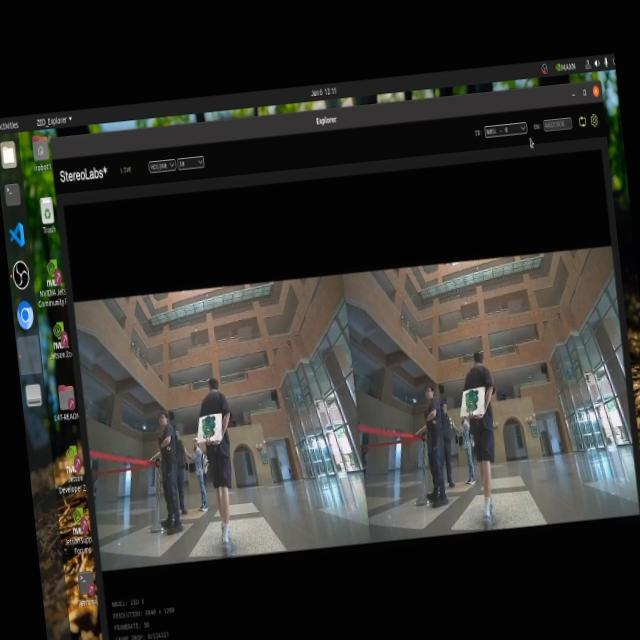green: (198, 410, 216, 438), (462, 388, 482, 410)
